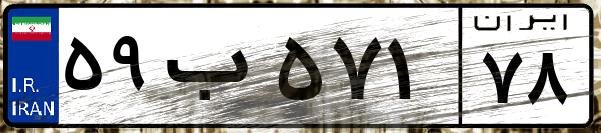1: (385, 28, 445, 110)
5: (270, 28, 330, 110), (57, 26, 110, 100)
7: (330, 28, 385, 110), (475, 38, 525, 113)
8: (525, 38, 570, 115)
9: (110, 28, 158, 98)
ب: (158, 20, 270, 120)
